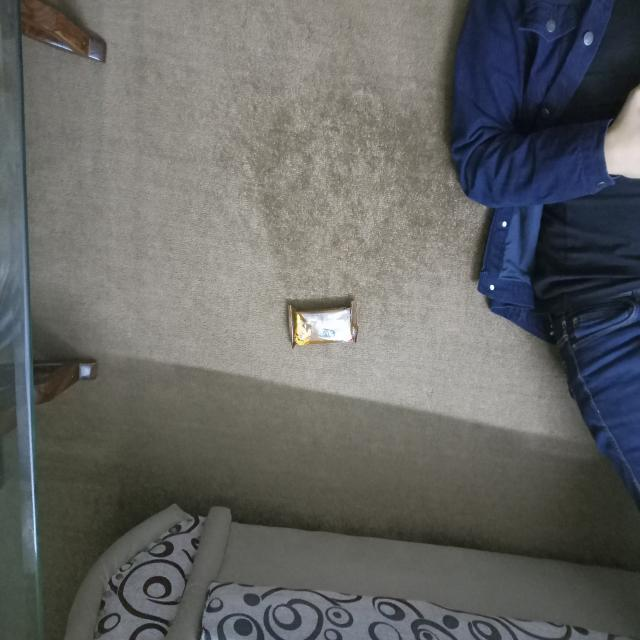Plastic: (282, 298, 362, 352)
